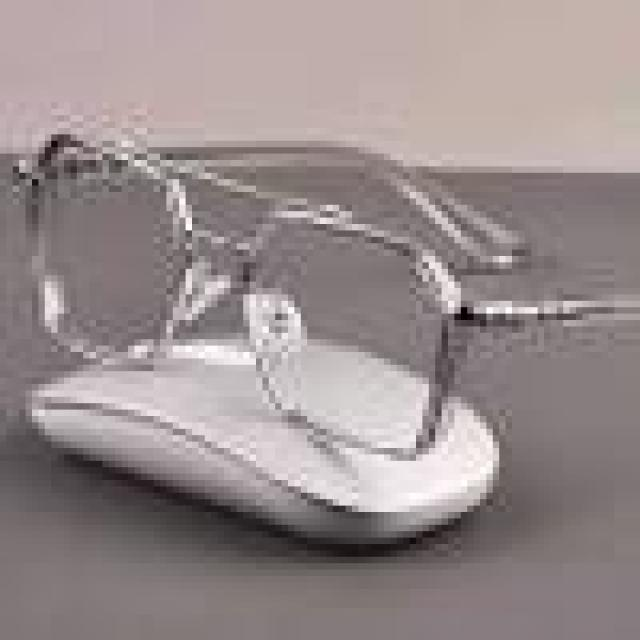suspicious-objects: (13, 109, 486, 461)
